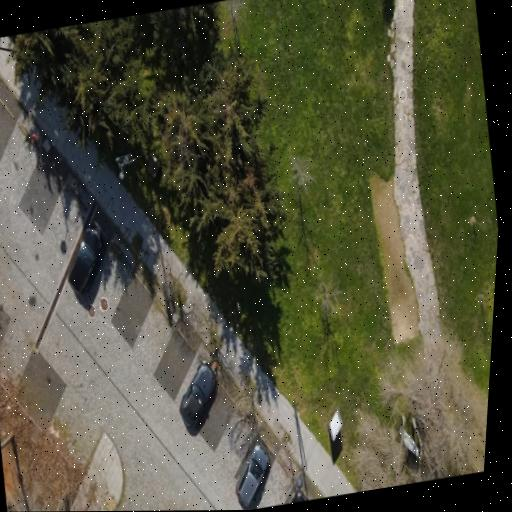car: (179, 362, 215, 426), (67, 226, 101, 292), (235, 443, 268, 507), (290, 489, 307, 503)
